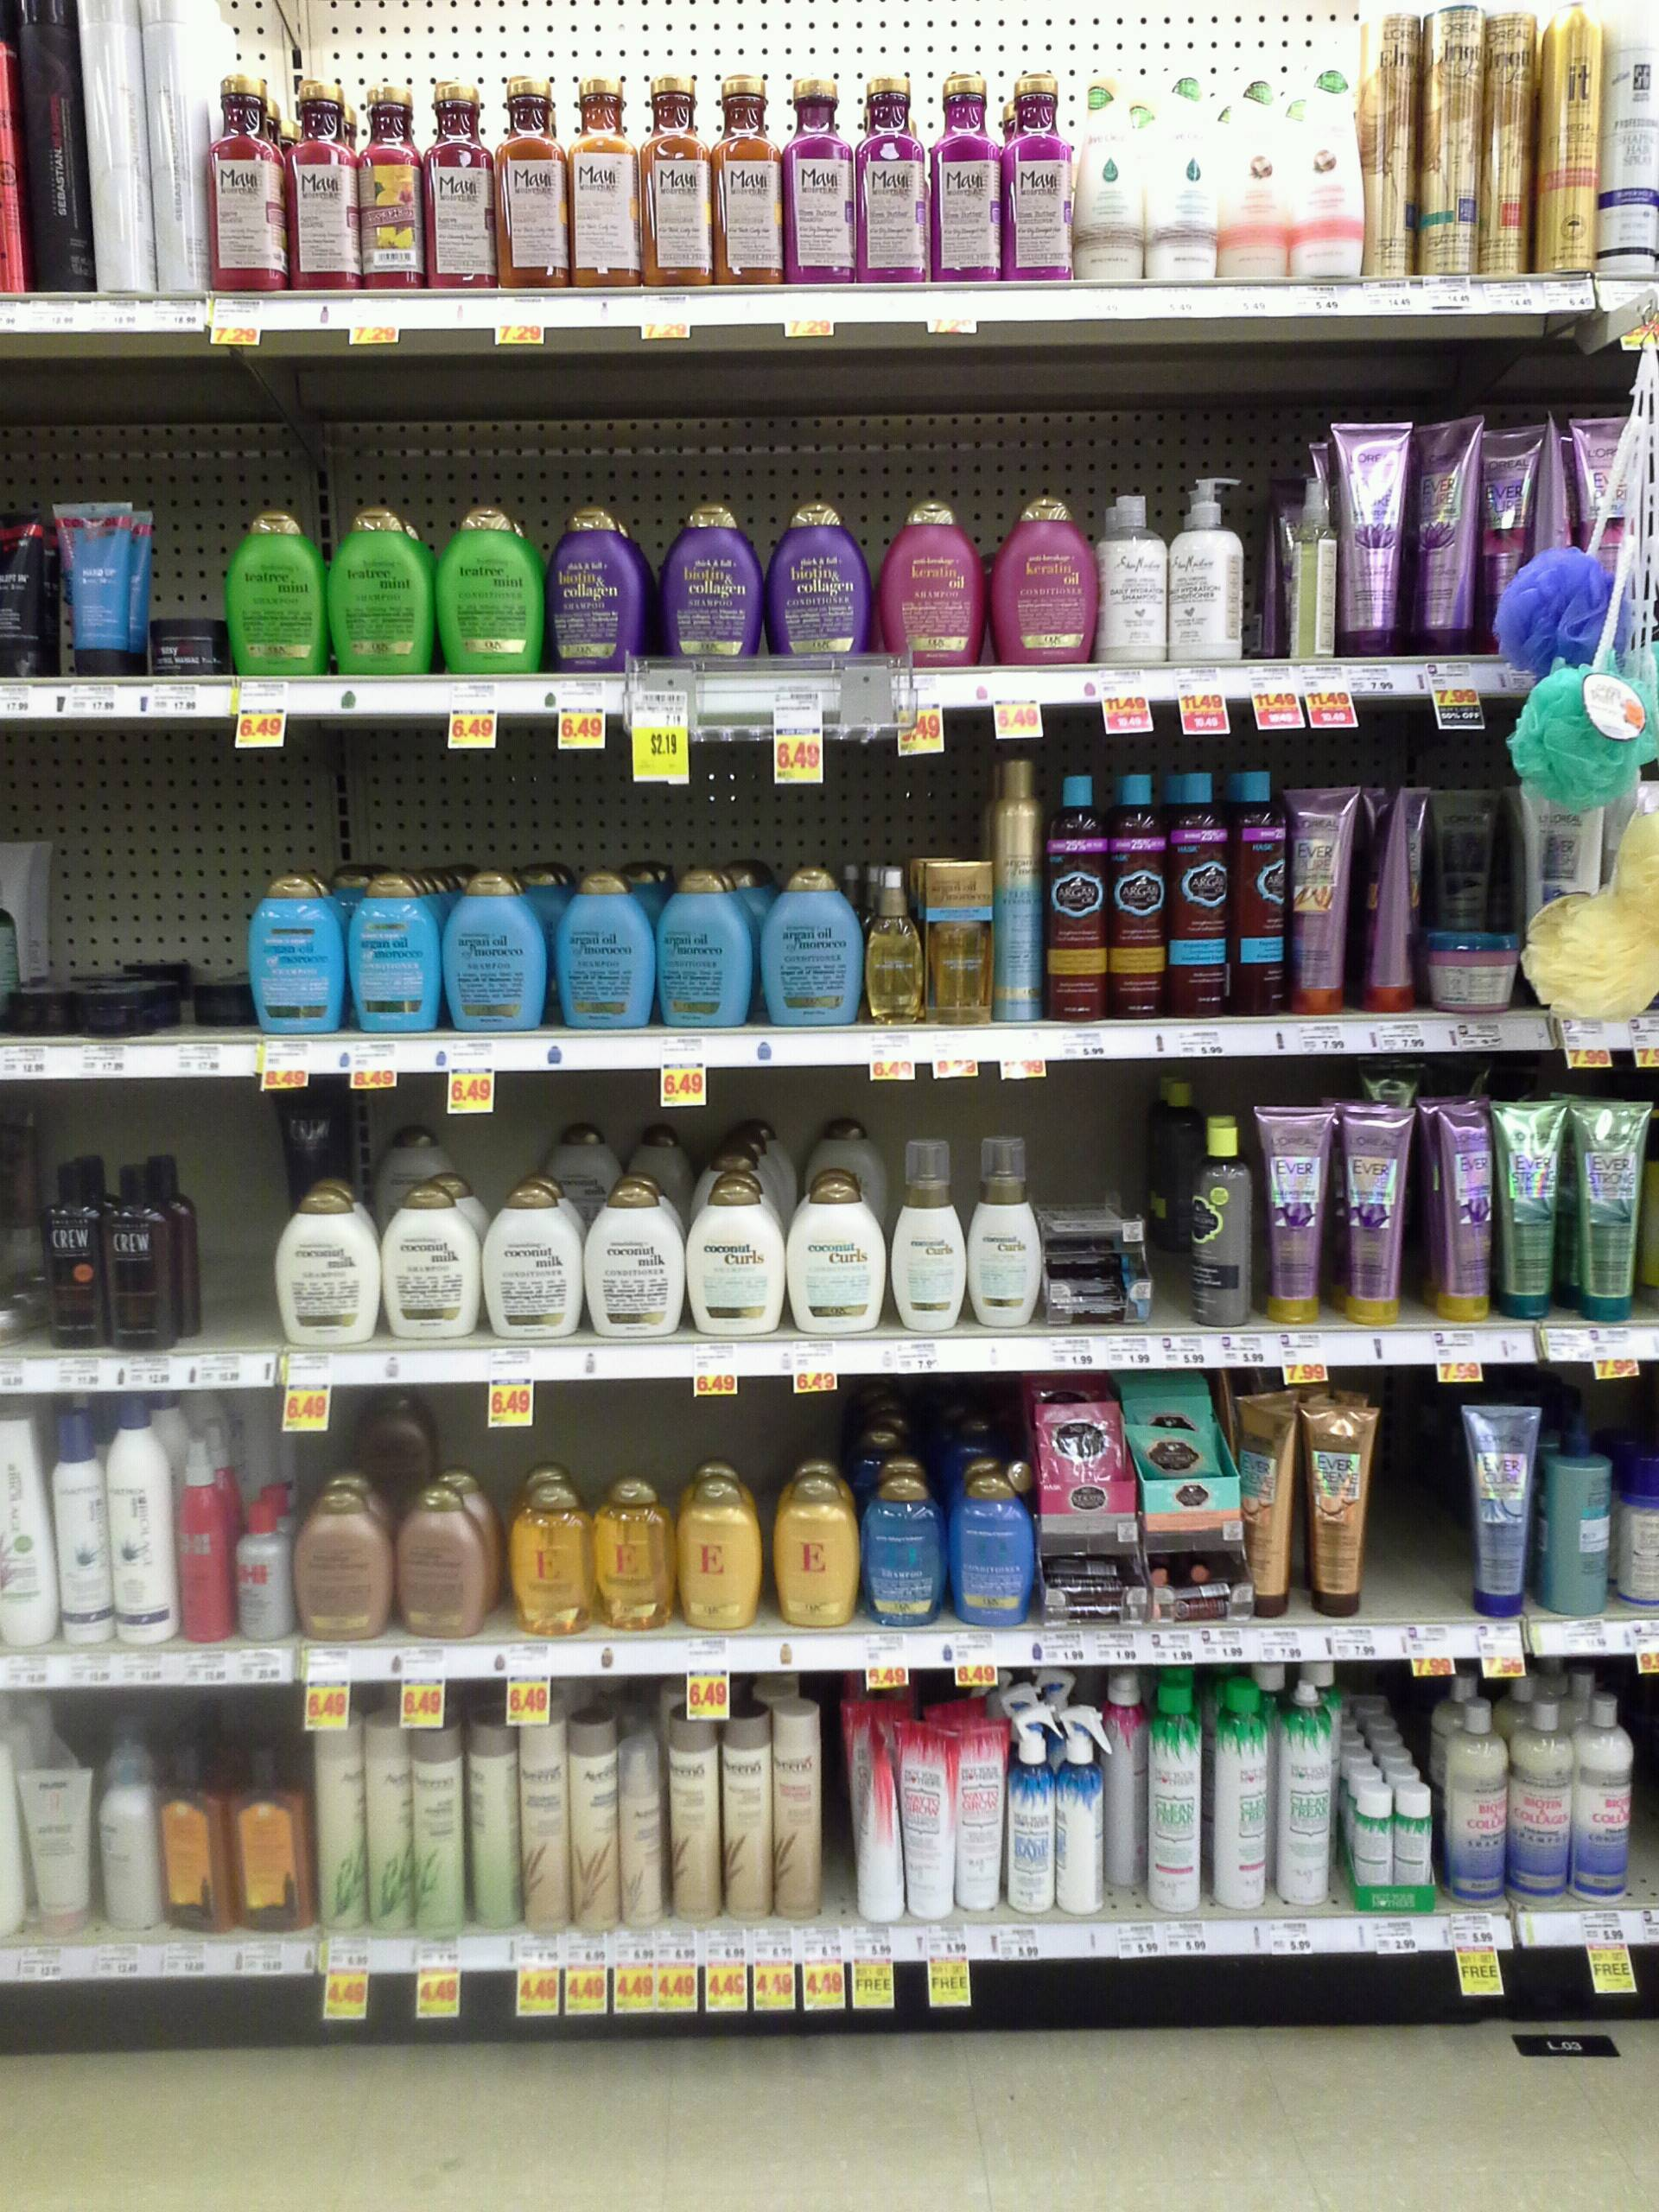Out-of-stock: (186, 1170, 282, 1348)
